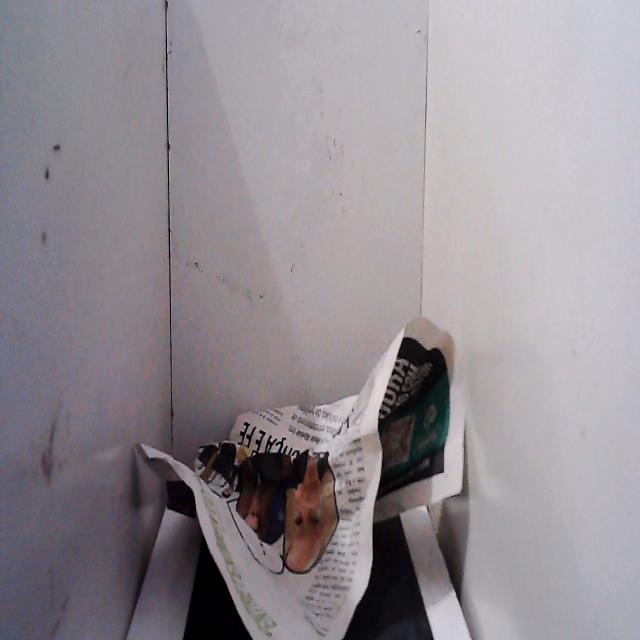papel: (127, 308, 469, 640)
